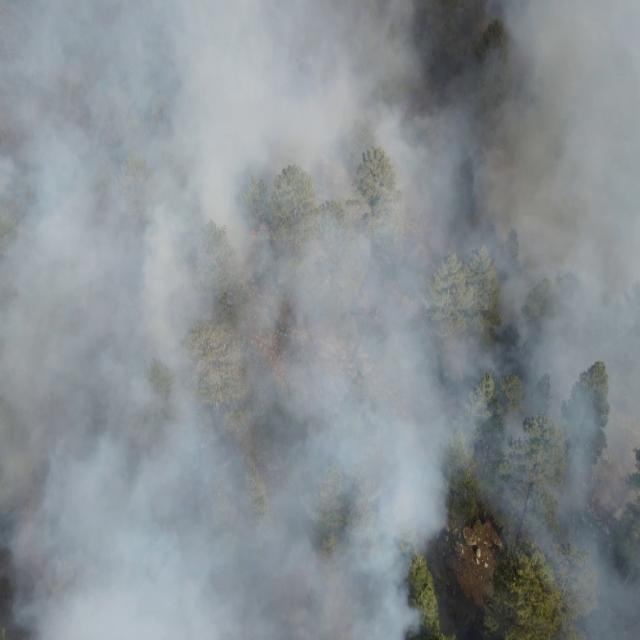fire: (244, 220, 270, 238)
smoke: (1, 1, 412, 640), (412, 1, 640, 488), (561, 490, 640, 640), (521, 487, 560, 573), (412, 488, 451, 554), (492, 487, 521, 537), (410, 604, 426, 640)
